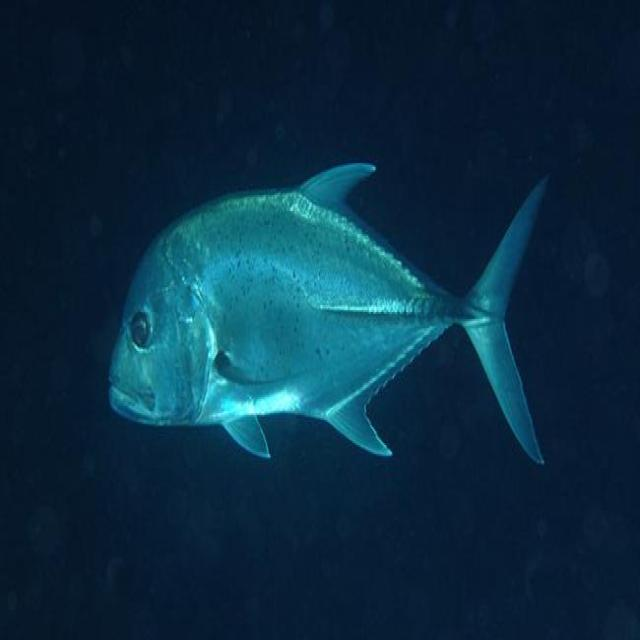ikan: (106, 158, 552, 466)
